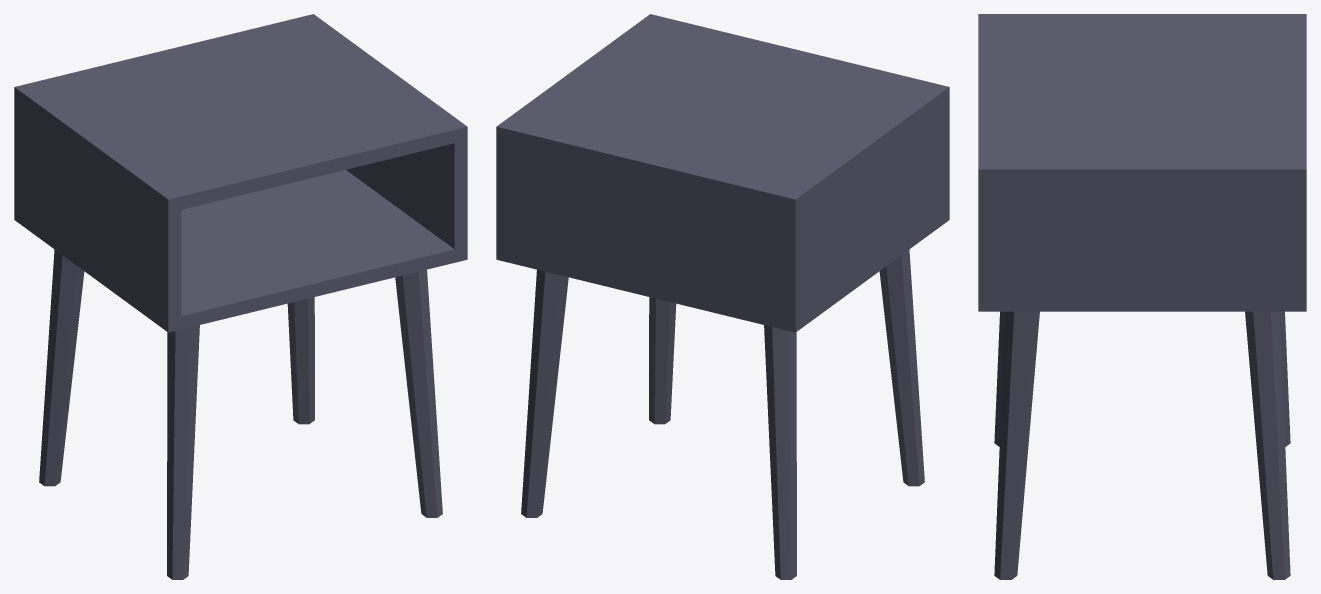
The model's file is BedTable3_C2.fbx.
3 views of the same model, side by side, from view 1: azimuth 30°, elevation 25°; view 2: azimuth 150°, elevation 25°; view 3: azimuth 270°, elevation 25° (orthographic). The views are drawn at different scales.
Visible parts, largest first — view 1: BedTable3_C2; view 2: BedTable3_C2; view 3: BedTable3_C2.
Boxes of the visible parts, x1,y1,x2,y2 form: BedTable3_C2: (14,14,467,579); BedTable3_C2: (496,14,949,579); BedTable3_C2: (978,14,1306,579).
Bounding box in the file's own units: 40 × 50 × 35.65.
